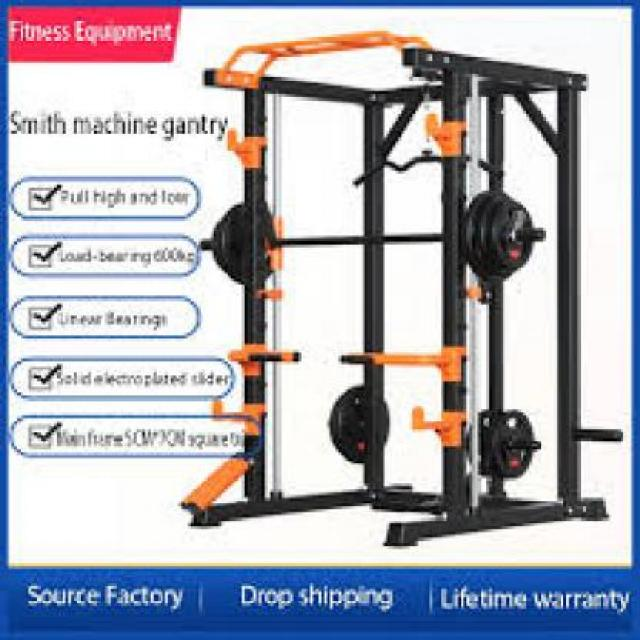smith machine: (234, 29, 623, 548)
